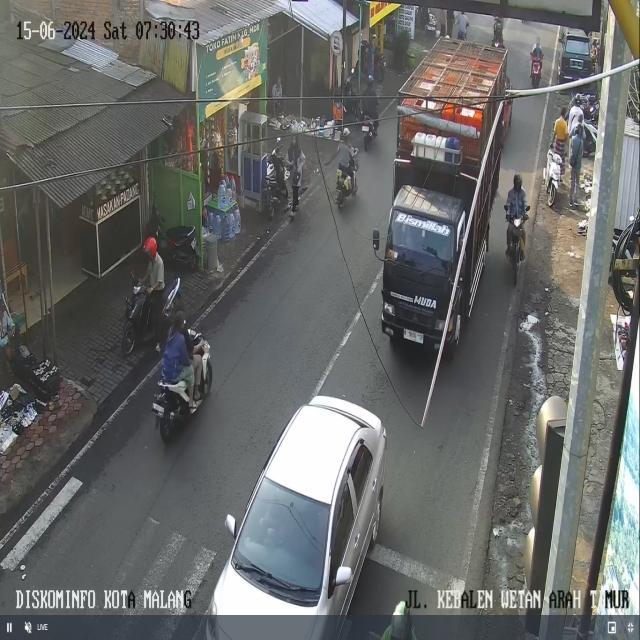Helmet: (390, 602, 411, 639), (143, 236, 157, 258), (513, 174, 522, 189), (342, 127, 349, 138), (368, 75, 374, 83)
Number Plate: (403, 329, 423, 343), (152, 403, 163, 414), (191, 238, 195, 249), (362, 125, 368, 131)
Rearview Mirror: (335, 566, 352, 586), (225, 514, 235, 537), (372, 229, 379, 250), (525, 205, 529, 211)
